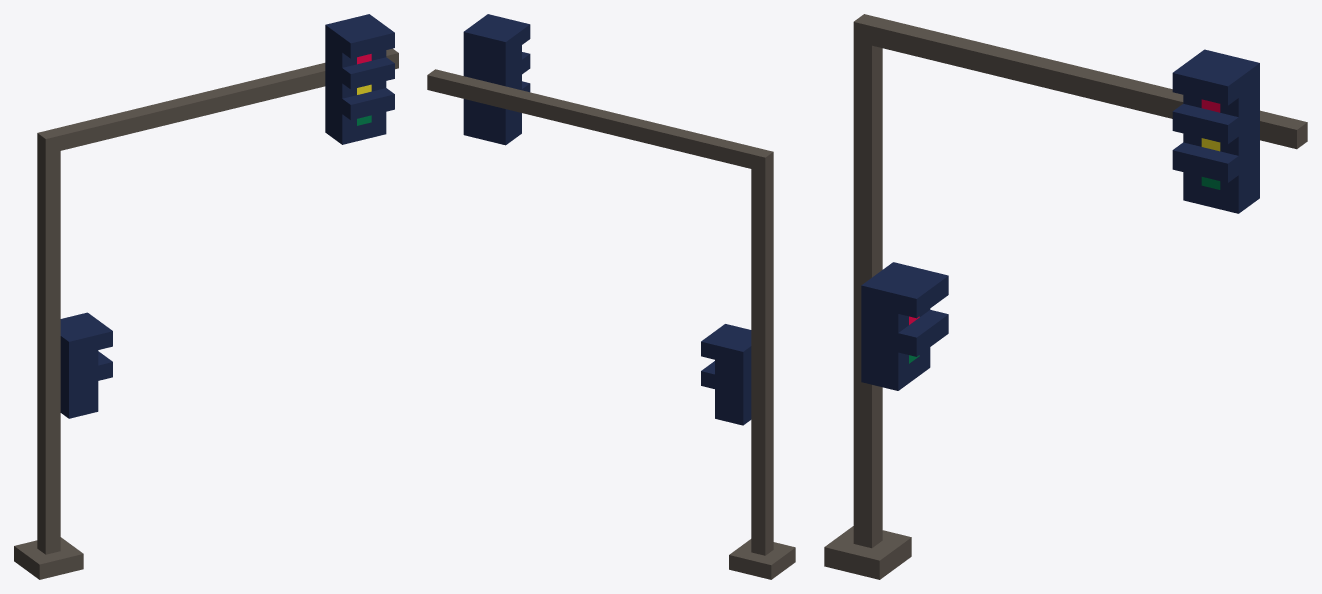
Rendered from traffic_light.obj.
The picture shows the model from 3 angles, left to right: view 1: azimuth 30°, elevation 25°; view 2: azimuth 150°, elevation 25°; view 3: azimuth 330°, elevation 25°; orthographic projection. The views are drawn at different scales.
Bounding box in the file's own units: 2.5 × 3.1 × 0.5.
Materials: 1 (1 with a texture image).
